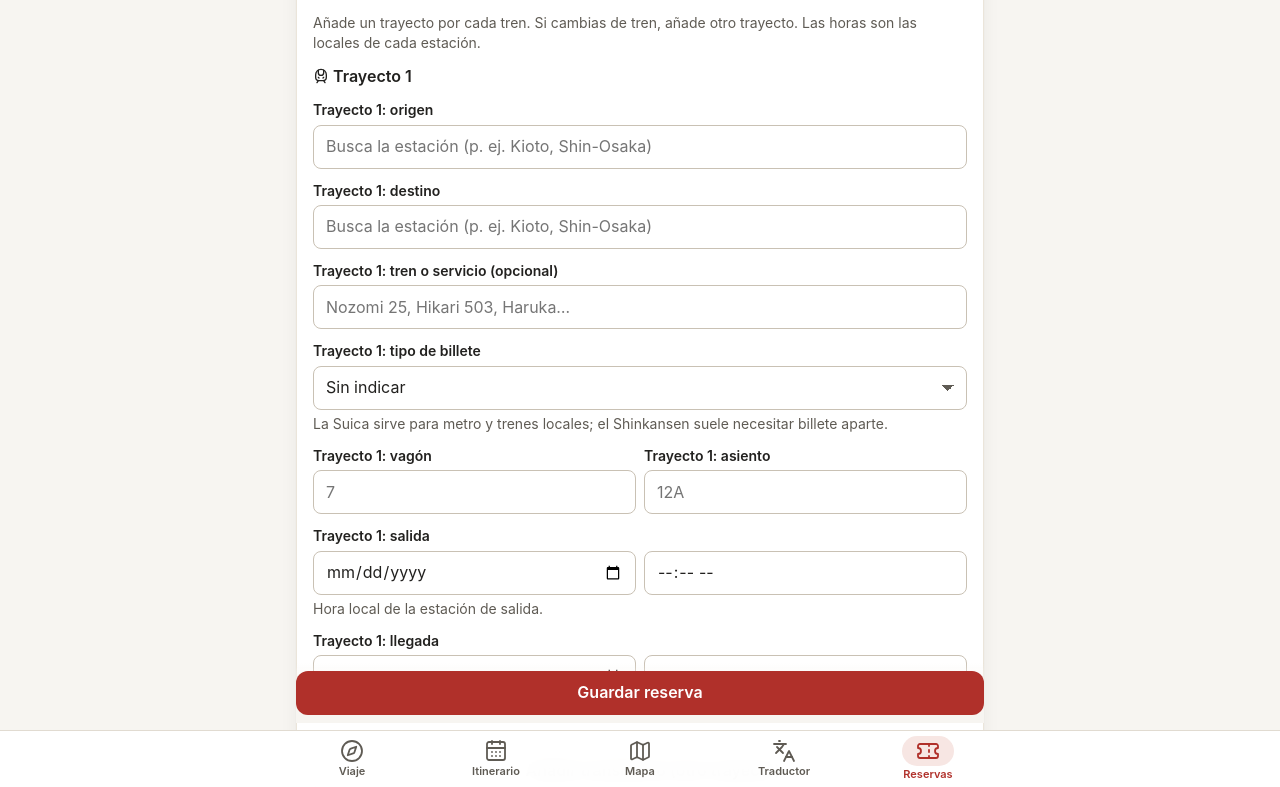
Test case: trenes entre ciudades › el formulario pide vagón y asiento salvo con Suica
The width and height of the screenshot is (1280, 787).
(page scrolled)
expect the dropdown labelled "Trayecto 1: origen" is shown: met, box [313,125,967,169]
Select "Billete con asiento reservado" in the dropdown labelled "Trayecto 1: tipo de billete" at (640, 388), box [313,366,967,410]
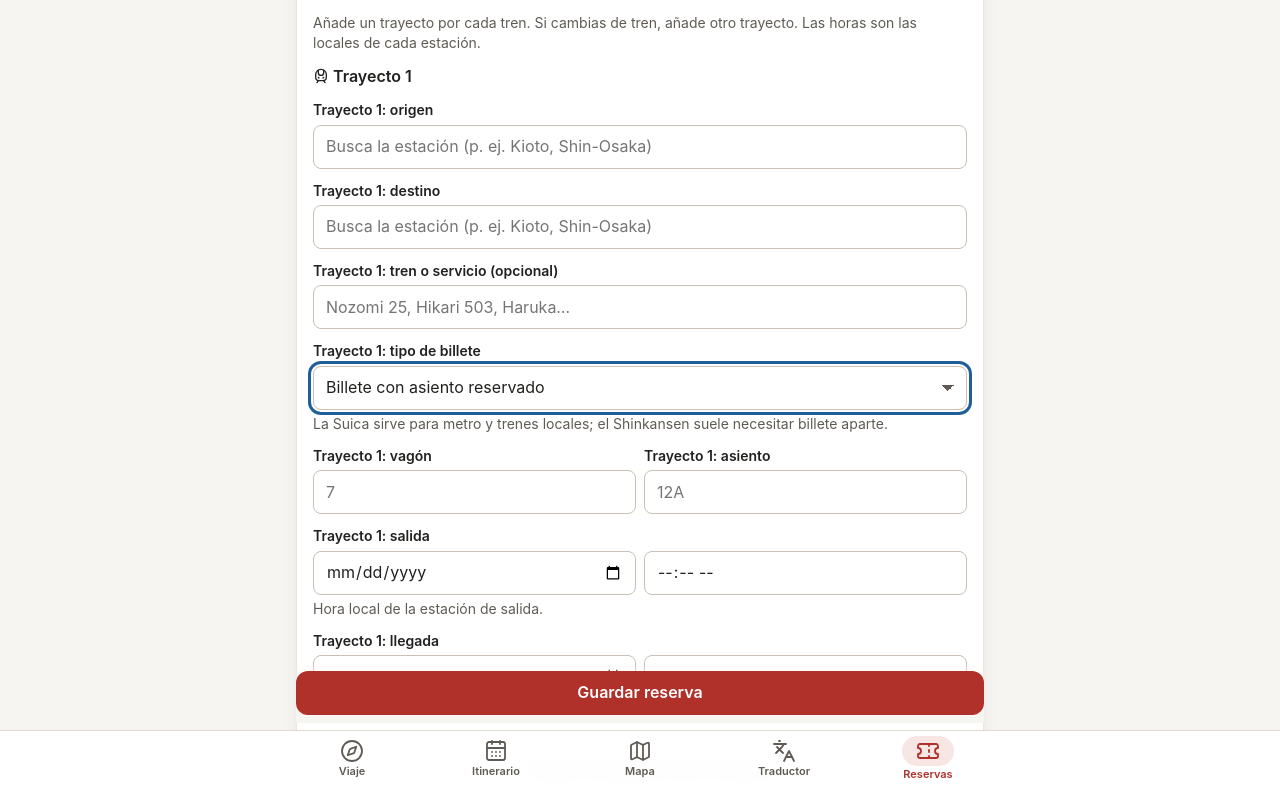
expect the field labelled "Trayecto 1: vagón" is shown: met, box [313,470,636,514]
expect the field labelled "Trayecto 1: asiento" is shown: met, box [644,470,967,514]
Select "Suica / IC (sin reserva)" in the dropdown labelled "Trayecto 1: tipo de billete" at (640, 388), box [313,366,967,410]
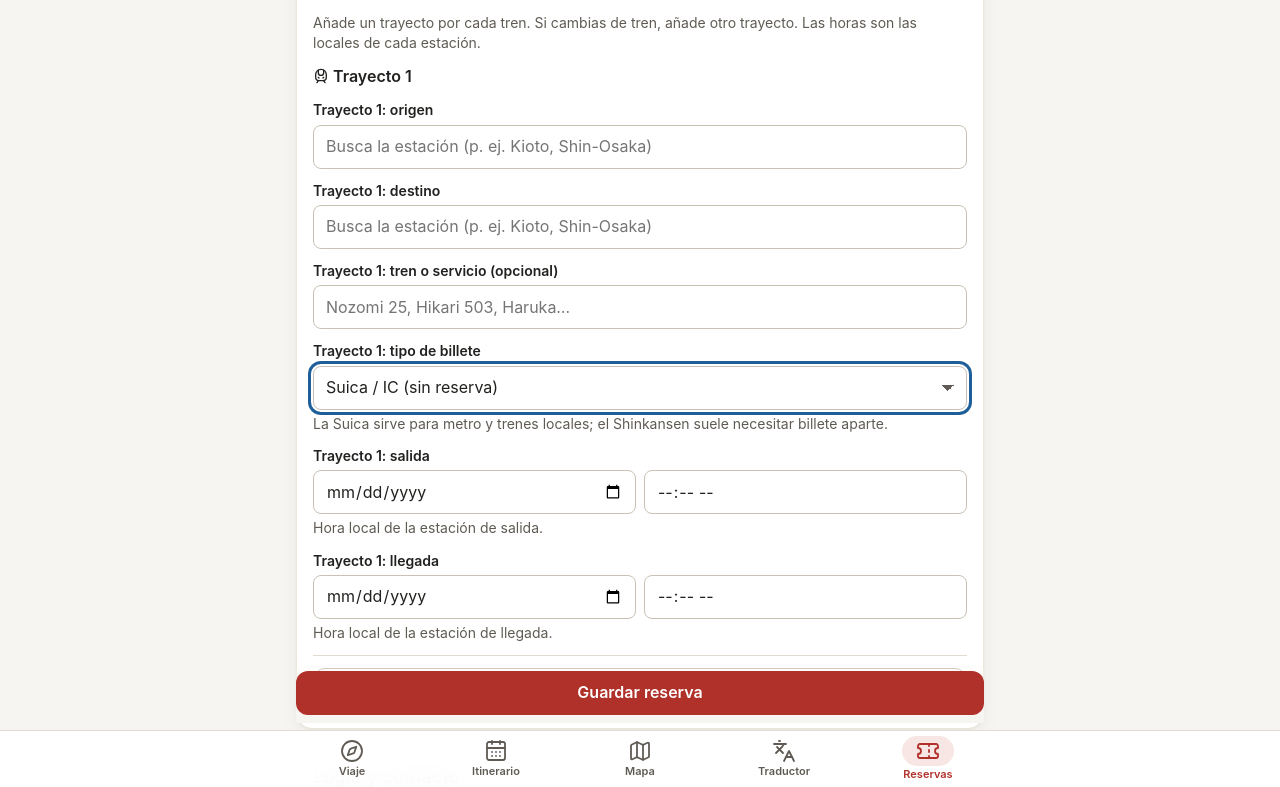
expect the label labelled "Trayecto 1: vagón" is gone: met
expect the label labelled "Trayecto 1: asiento" is gone: met
